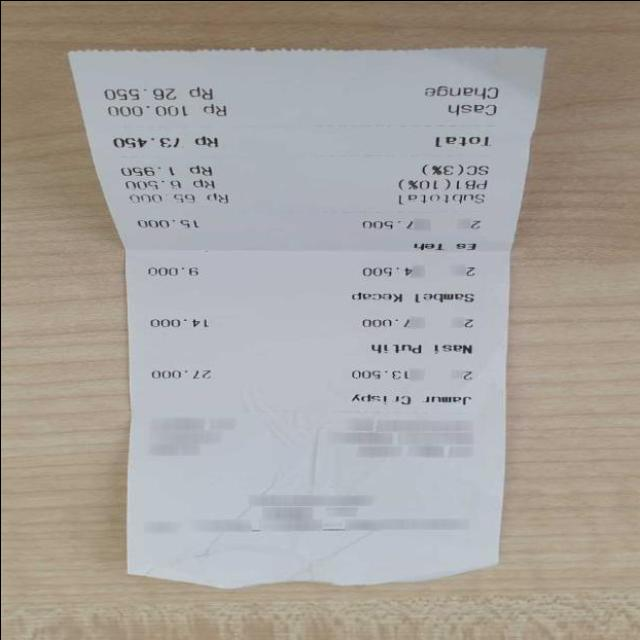kertas: (69, 47, 548, 588)
